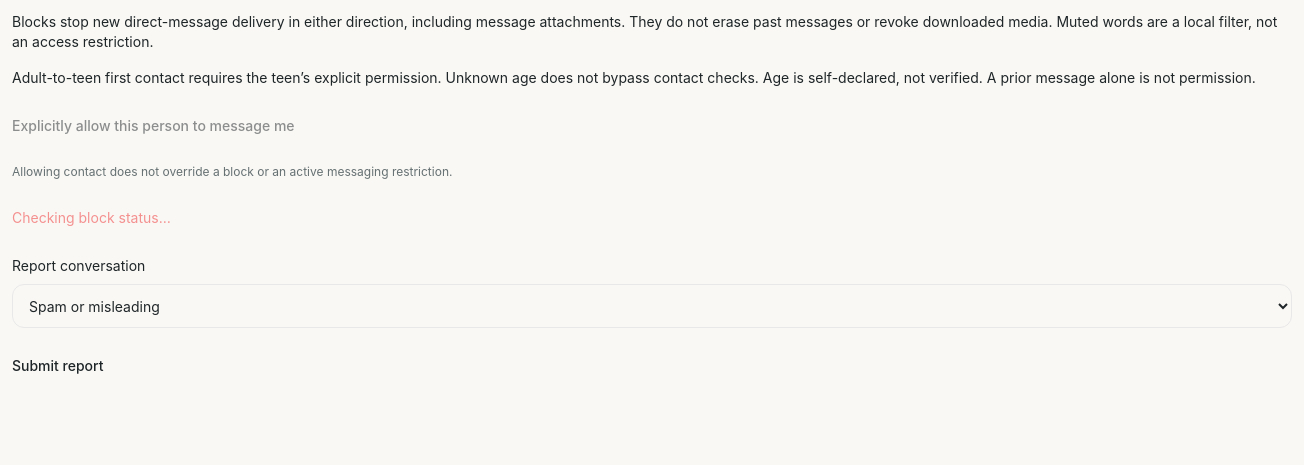
Test case: reports via the supported RPC and requires its UUID receipt
Click the button "Submit report" at (58, 366), box [12,344,104,388]
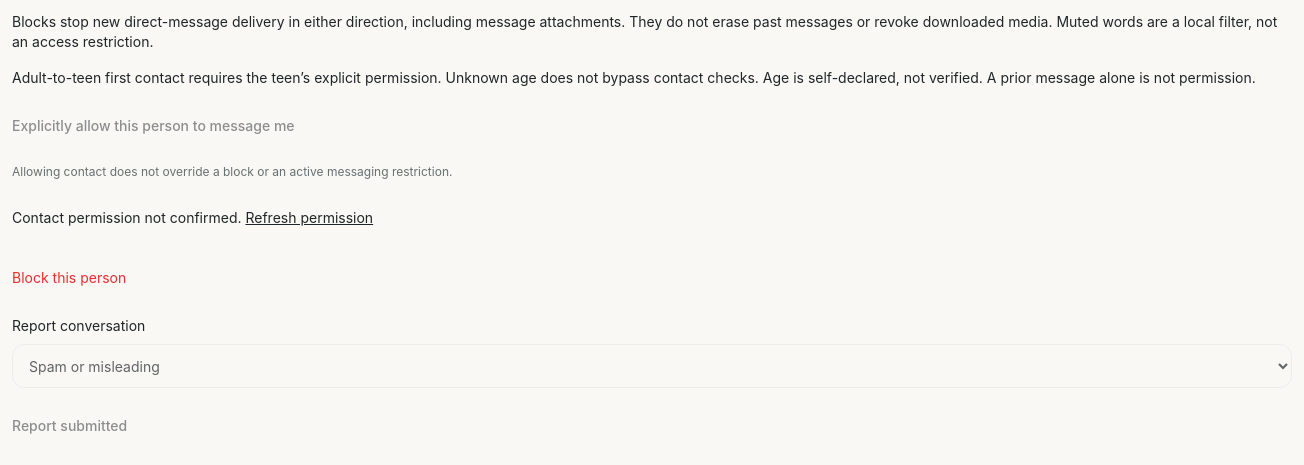
Result: the button "Report submitted" is shown at [12,404,127,448]
